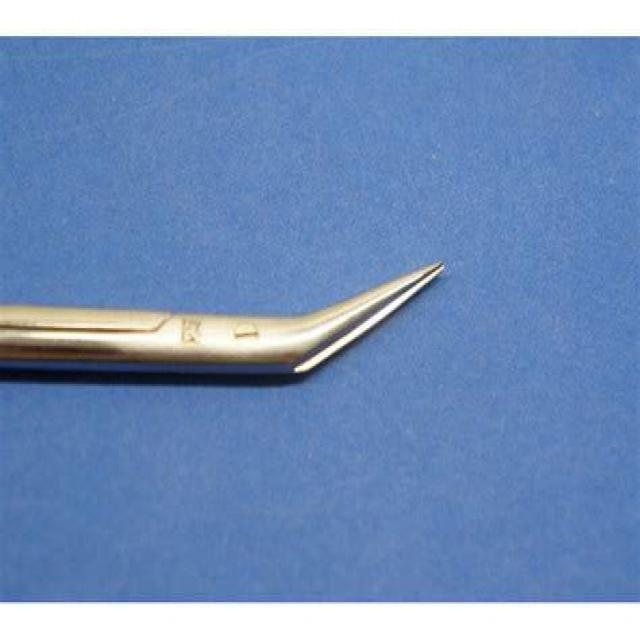Potts: (2, 254, 452, 388)
